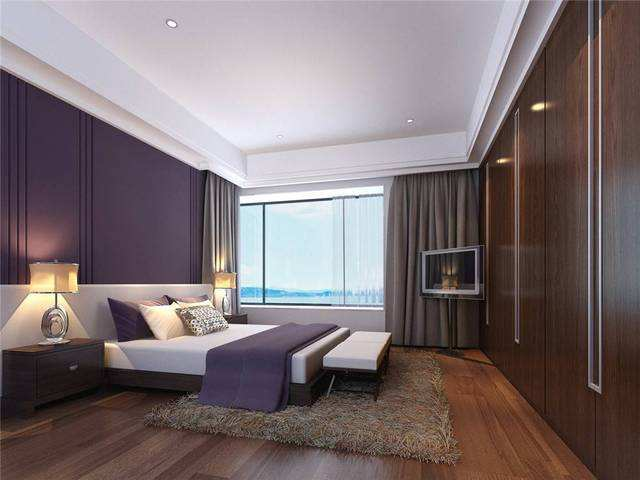床: (105, 312, 334, 407)
枕头: (118, 295, 228, 343)
灯: (25, 260, 81, 348), (210, 266, 238, 312), (161, 18, 179, 31), (402, 115, 419, 127)
